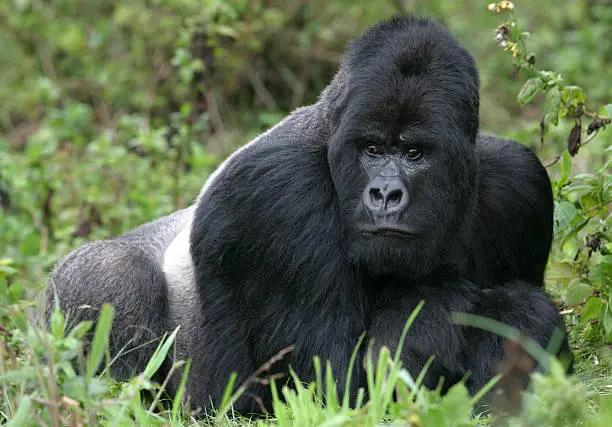goriile_montagne: (31, 0, 579, 423)
